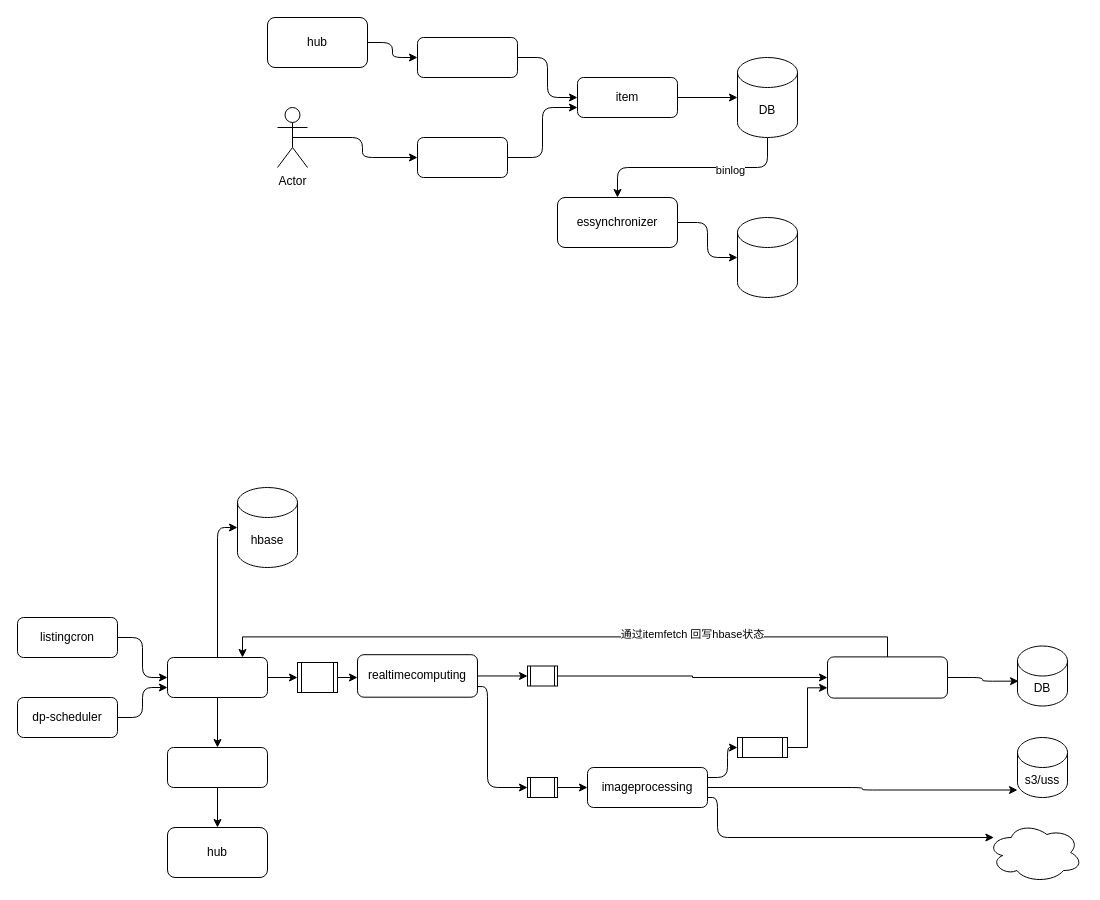
The diagram is 1100 pixels wide and 900 high, and some of its shapes have lost their labels. The box of each missing label's shape, as (x1, y1, x2, y2) in pixels:
admin-api: (416, 136, 508, 178)
CDN: (986, 822, 1082, 882)
ES: (736, 216, 798, 298)
internal-api: (416, 36, 518, 78)
itemfetch: (166, 656, 268, 698)
onelinedatasync: (826, 656, 948, 698)
providerpoxy: (166, 746, 268, 788)
